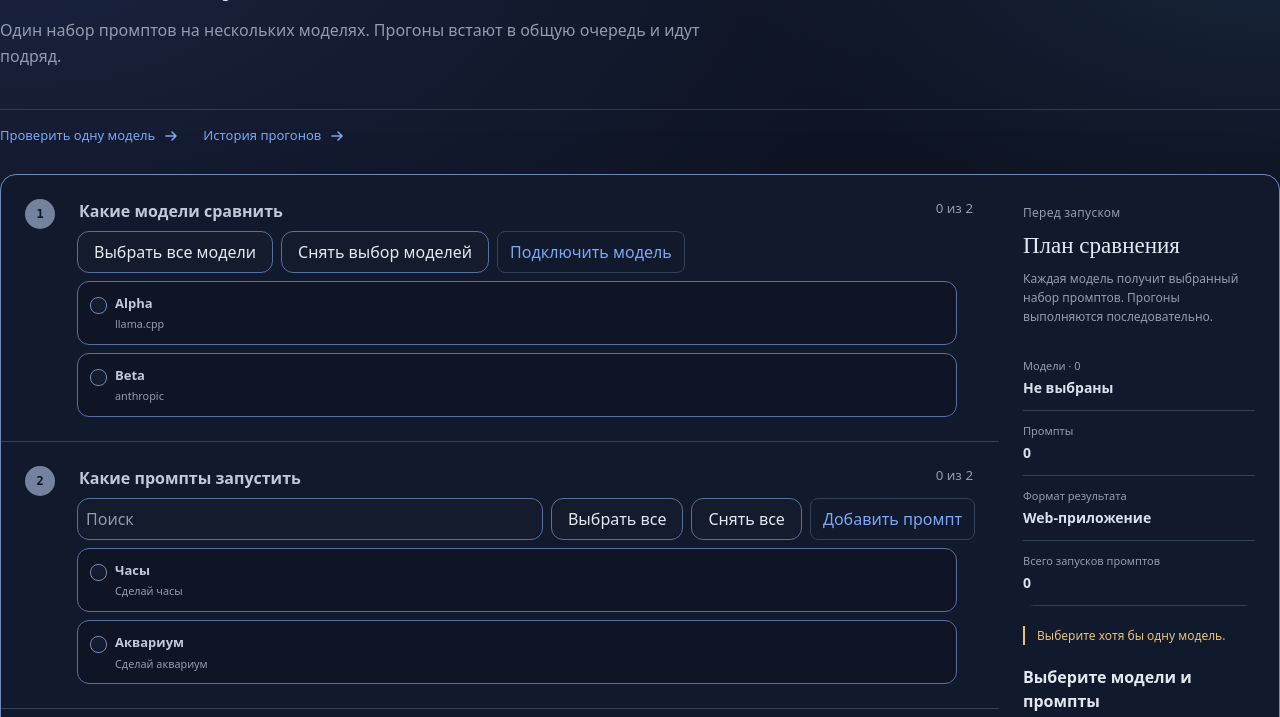
Test: форма массового запуска › предупреждает, что модель без инструментов пойдёт голой
Expected: the text "Alpha" is shown, [115,294,153,312]
Click the checkbox labelled "Alpha llama.cpp" at (98, 305), box [90,297,107,314]
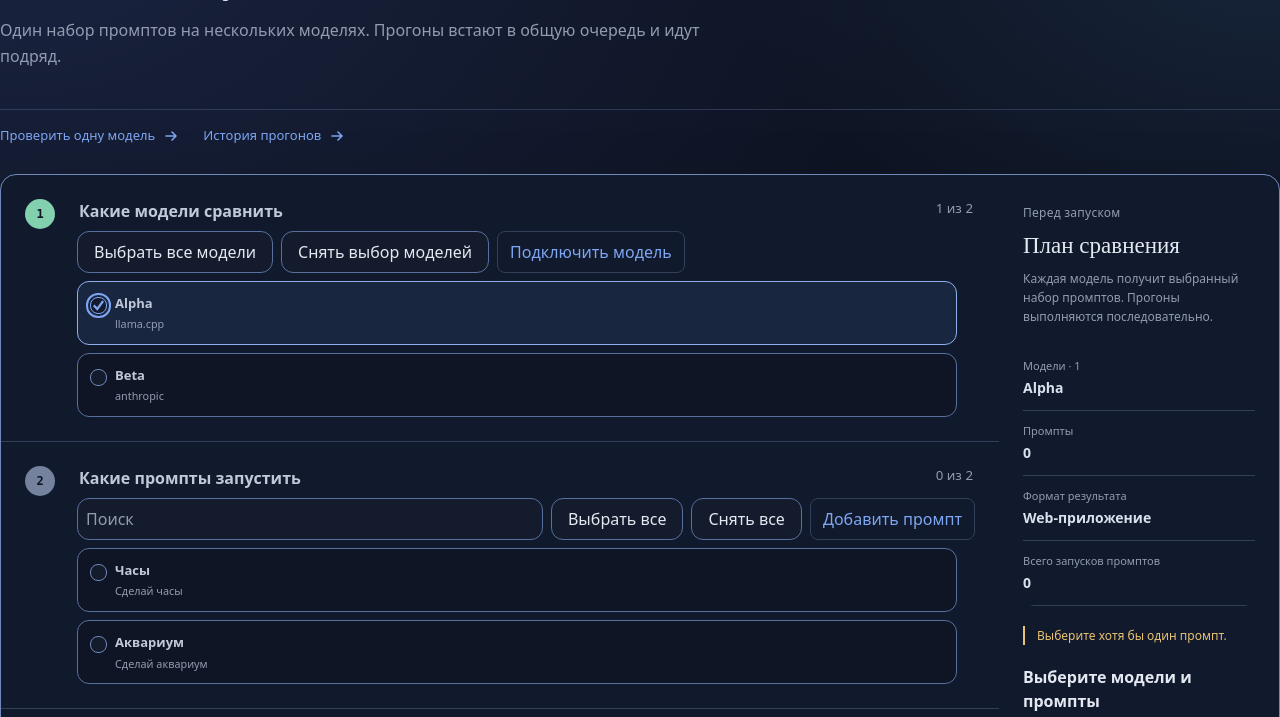
Click the checkbox labelled "Часы Сделай часы" at (98, 572), box [90,564,107,581]
(page scrolled)
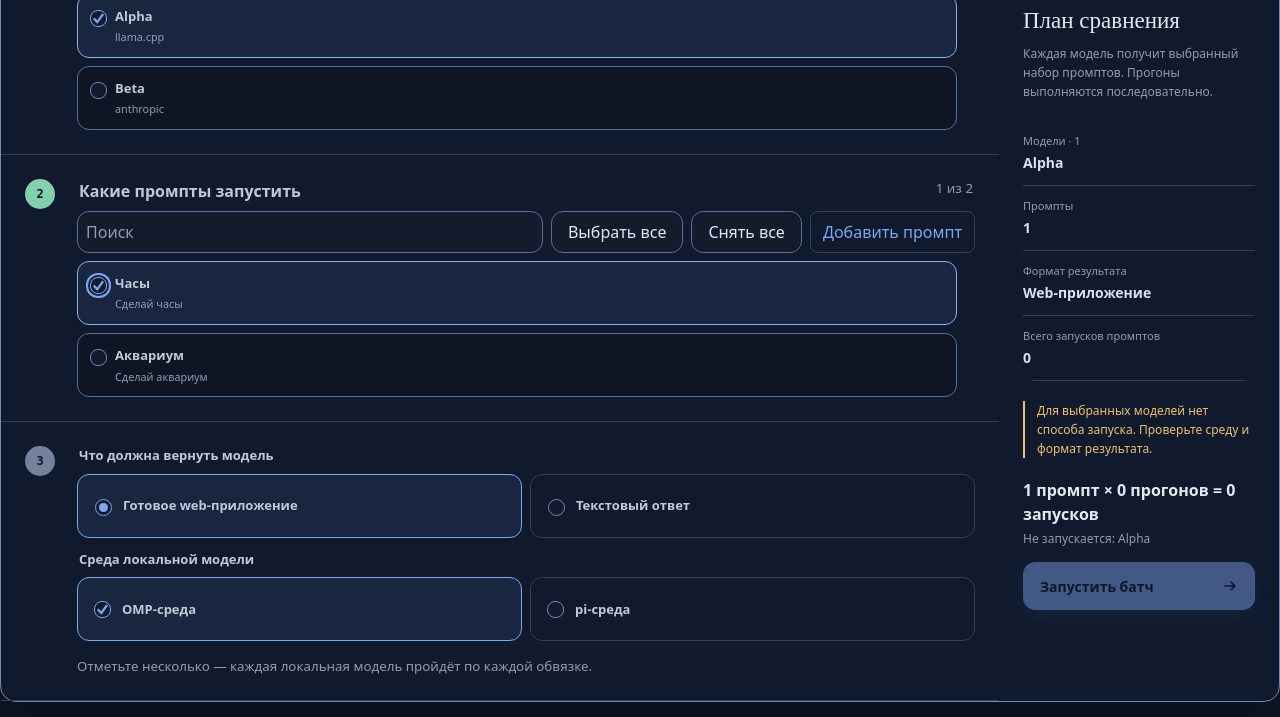
Click the radio button labelled "Текстовый ответ" at (556, 507), box [548,499,565,516]
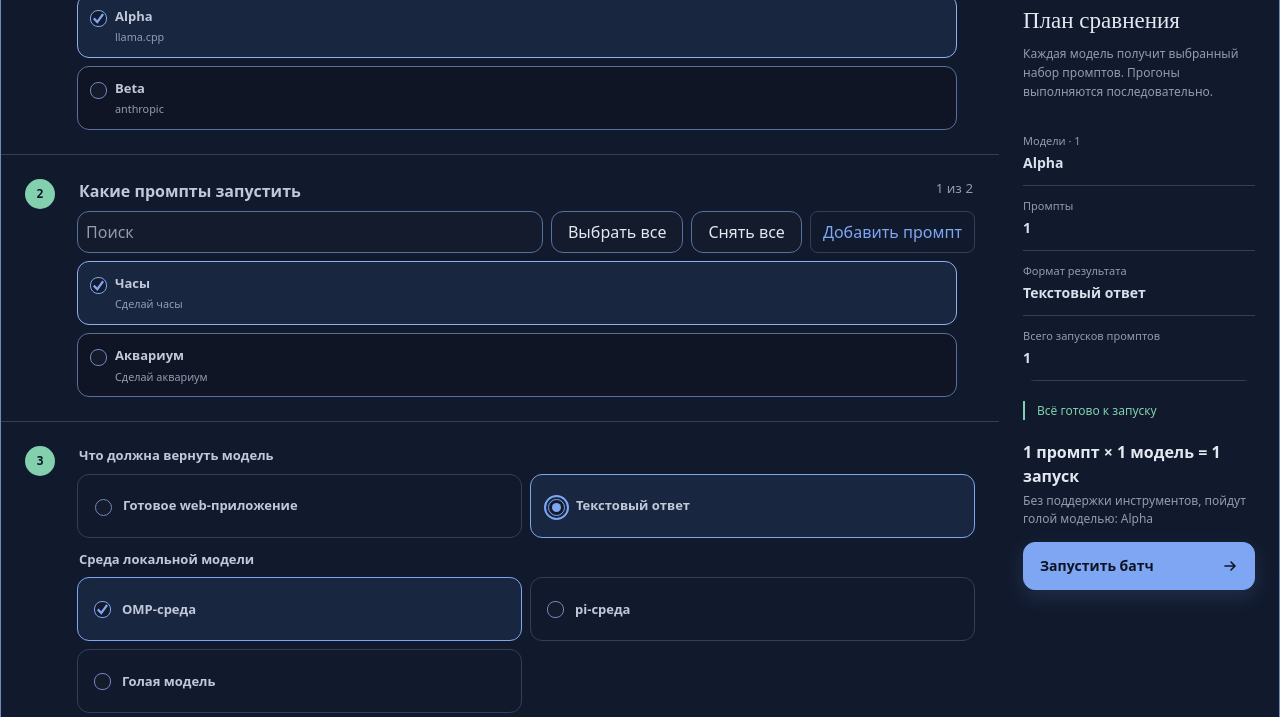
Expected: the text "Без поддержки инструментов, пойдут голой моделью: Alpha" is shown, [1023,492,1255,528]
